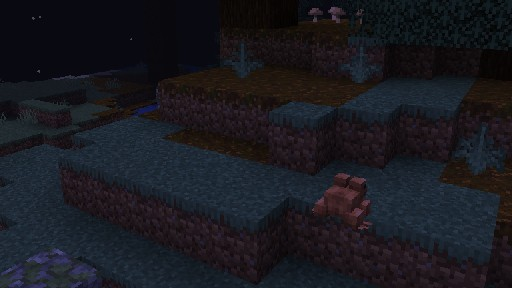frog: (311, 171, 372, 230)
